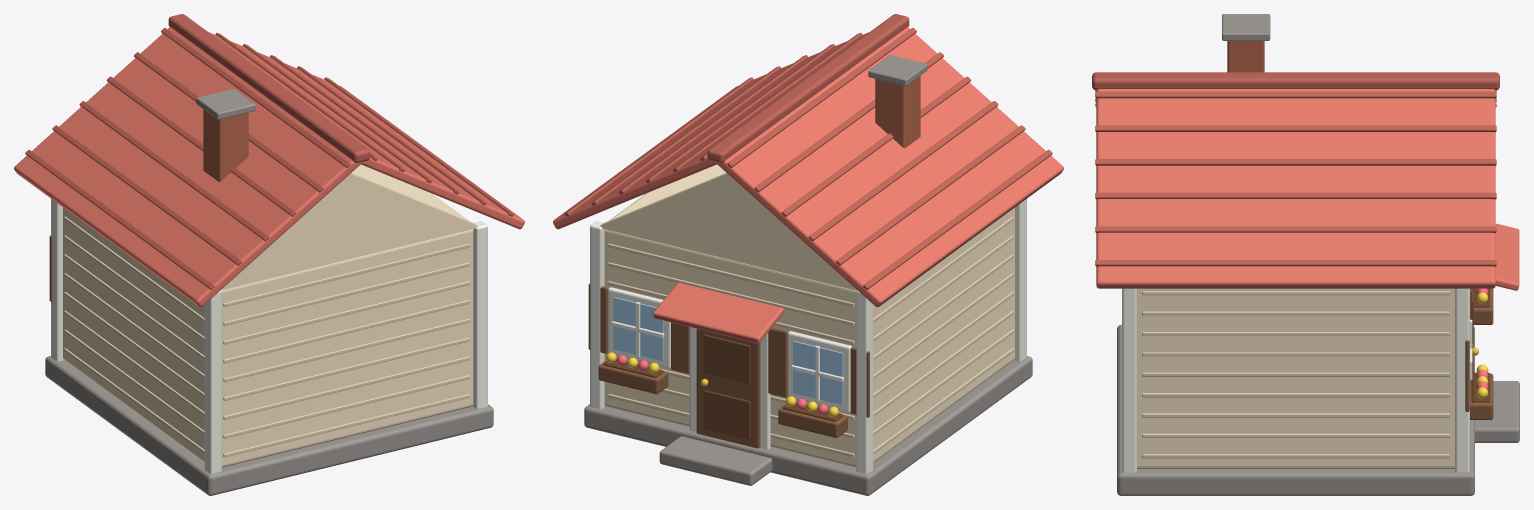
The model's file is house_a.glb.
The picture shows the model from 3 angles, left to right: view 1: azimuth 30°, elevation 25°; view 2: azimuth 150°, elevation 25°; view 3: azimuth 270°, elevation 25°; orthographic projection. The views are drawn at different scales.
Visible parts, largest first — view 1: house_a; view 2: house_a; view 3: house_a.
Part boxes in pixels (x1,y1,x2,y2): house_a: [14, 14, 524, 495]; house_a: [553, 14, 1063, 495]; house_a: [1092, 14, 1519, 495].
Size of the model in its own units: 4.94 by 4.81 by 5.14.
